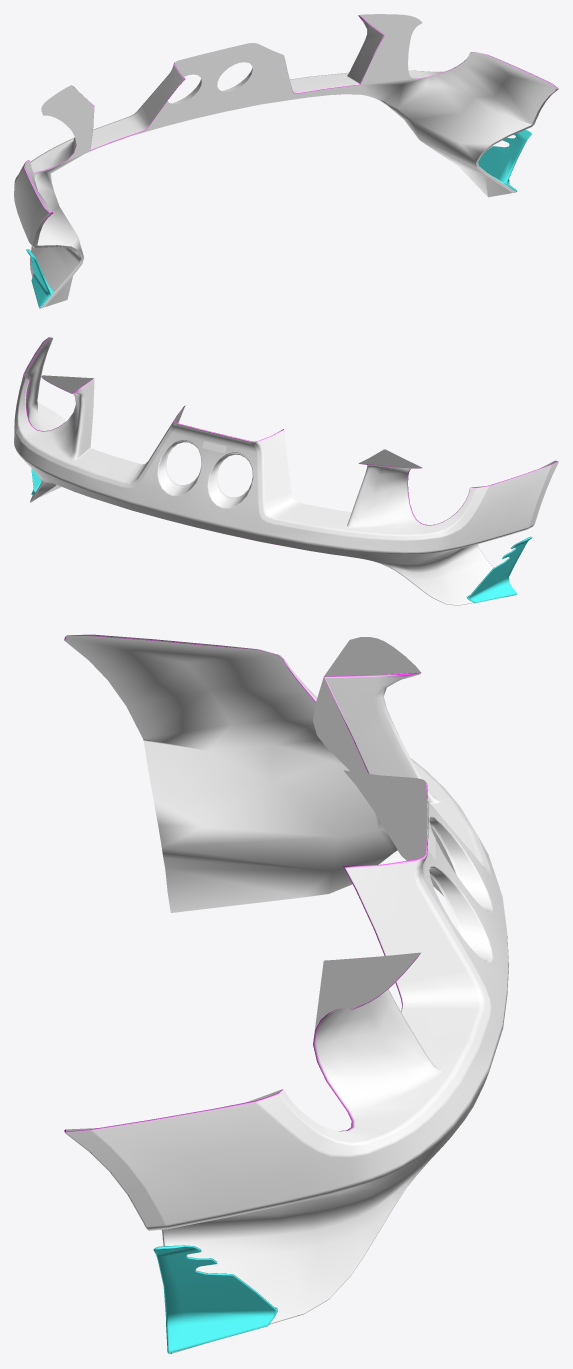
File: Car_Ford_GT_2017_BumperR_SetB.fbx
3 renders of one model, top to bottom at view 1: azimuth 30°, elevation 25°; view 2: azimuth 150°, elevation 25°; view 3: azimuth 270°, elevation 25°, orthographic. The views are drawn at different scales.
Visible parts, largest first — view 1: BumperR 6; view 2: BumperR 6; view 3: BumperR 6.
Part boxes in pixels (bbox=[...]): BumperR 6: bbox=[14, 14, 558, 308]; BumperR 6: bbox=[14, 337, 558, 605]; BumperR 6: bbox=[64, 634, 508, 1354].
Bounding box in the file's own units: 1.99 × 0.5781 × 0.7521.
